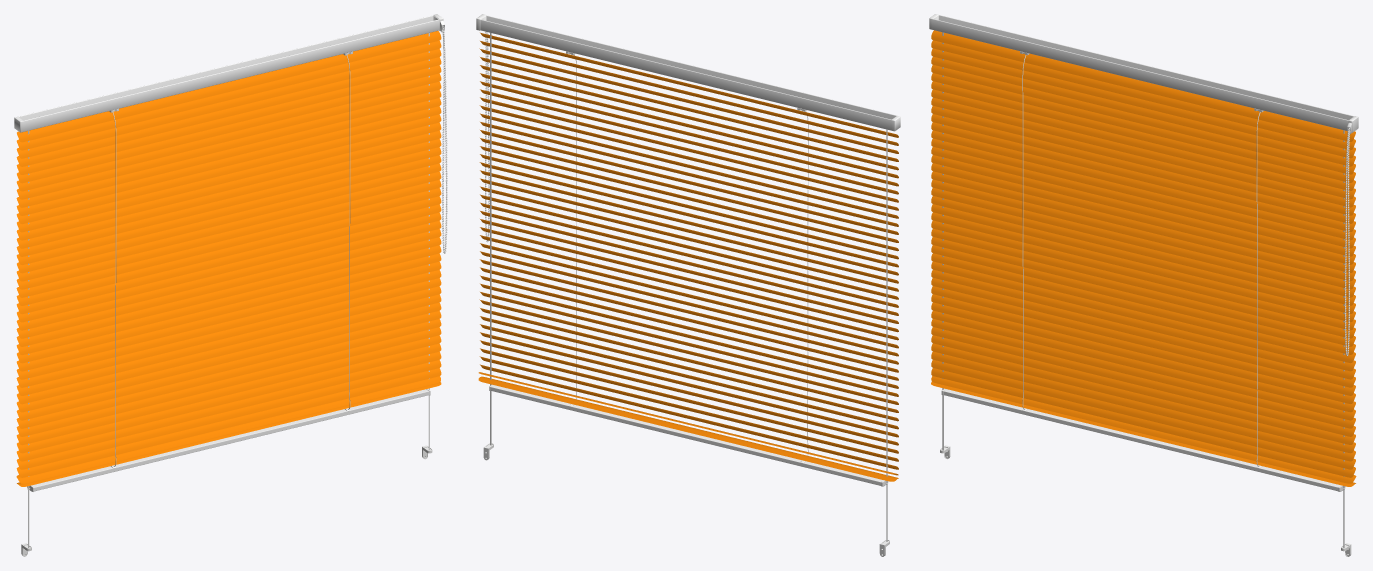
The model's file is 8100 Monokommando (Kette, Kurbel oder Motor).glb.
3 views of the same model, side by side, from view 1: azimuth 30°, elevation 25°; view 2: azimuth 150°, elevation 25°; view 3: azimuth 330°, elevation 25° (orthographic).
Parts seen in each view (by area): view 1: Cube.036, jalousie.049, jalousie.042, jalousie.037, jalousie.034, jalousie.020, jalousie.013, jalousie.010, jalousie.002, jalousie.036, jalousie.031, jalousie.029 (+35 smaller); view 2: Cube.036, Cube.038, jalousie.040, jalousie.028, jalousie.018, jalousie.017, jalousie.042, jalousie.037, jalousie.027, jalousie.026, jalousie.019, jalousie.016 (+35 smaller); view 3: Cube.036, jalousie.049, jalousie.035, jalousie.042, jalousie.034, jalousie.030, jalousie.039, jalousie.032, jalousie.031, jalousie.033, jalousie.029, jalousie.043 (+36 smaller).
Boxes of the visible parts, x1=… form: Cube.036: x1=14, y1=15, x2=439, y2=132; jalousie.049: x1=17, y1=31, x2=441, y2=142; jalousie.042: x1=16, y1=360, x2=441, y2=469; jalousie.037: x1=16, y1=335, x2=441, y2=445; jalousie.034: x1=16, y1=310, x2=441, y2=420; jalousie.020: x1=16, y1=196, x2=441, y2=305; jalousie.013: x1=16, y1=139, x2=441, y2=248; jalousie.010: x1=16, y1=114, x2=441, y2=224; jalousie.002: x1=16, y1=49, x2=441, y2=158; jalousie.036: x1=16, y1=327, x2=441, y2=436; jalousie.031: x1=16, y1=286, x2=441, y2=395; jalousie.029: x1=16, y1=270, x2=441, y2=379; Cube.036: x1=480, y1=15, x2=900, y2=131; Cube.038: x1=490, y1=385, x2=883, y2=485; jalousie.040: x1=478, y1=376, x2=898, y2=481; jalousie.028: x1=479, y1=259, x2=898, y2=364; jalousie.018: x1=480, y1=178, x2=898, y2=283; jalousie.017: x1=480, y1=170, x2=898, y2=275; jalousie.042: x1=479, y1=356, x2=898, y2=461; jalousie.037: x1=480, y1=332, x2=898, y2=437; jalousie.027: x1=480, y1=251, x2=898, y2=356; jalousie.026: x1=480, y1=243, x2=898, y2=348; jalousie.019: x1=480, y1=186, x2=898, y2=291; jalousie.016: x1=479, y1=162, x2=898, y2=267; Cube.036: x1=929, y1=14, x2=1353, y2=130; jalousie.049: x1=931, y1=30, x2=1355, y2=141; jalousie.035: x1=931, y1=319, x2=1355, y2=428; jalousie.042: x1=931, y1=359, x2=1355, y2=469; jalousie.034: x1=931, y1=310, x2=1355, y2=420; jalousie.030: x1=931, y1=278, x2=1355, y2=387; jalousie.039: x1=931, y1=351, x2=1355, y2=461; jalousie.032: x1=931, y1=294, x2=1355, y2=403; jalousie.031: x1=931, y1=286, x2=1355, y2=395; jalousie.033: x1=931, y1=302, x2=1355, y2=412; jalousie.029: x1=931, y1=269, x2=1355, y2=379; jalousie.043: x1=931, y1=368, x2=1355, y2=477.
Size of the model in its own units: 1 by 1 by 0.0475.
Materials: 3 (1 with a texture image).
